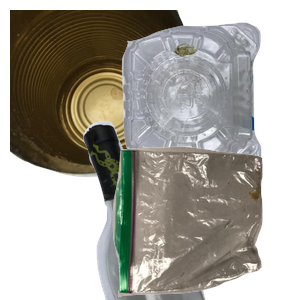glass: (81, 120, 300, 300)
metal: (10, 10, 200, 180)
plastic: (119, 20, 300, 190)
trash: (110, 144, 300, 300)
